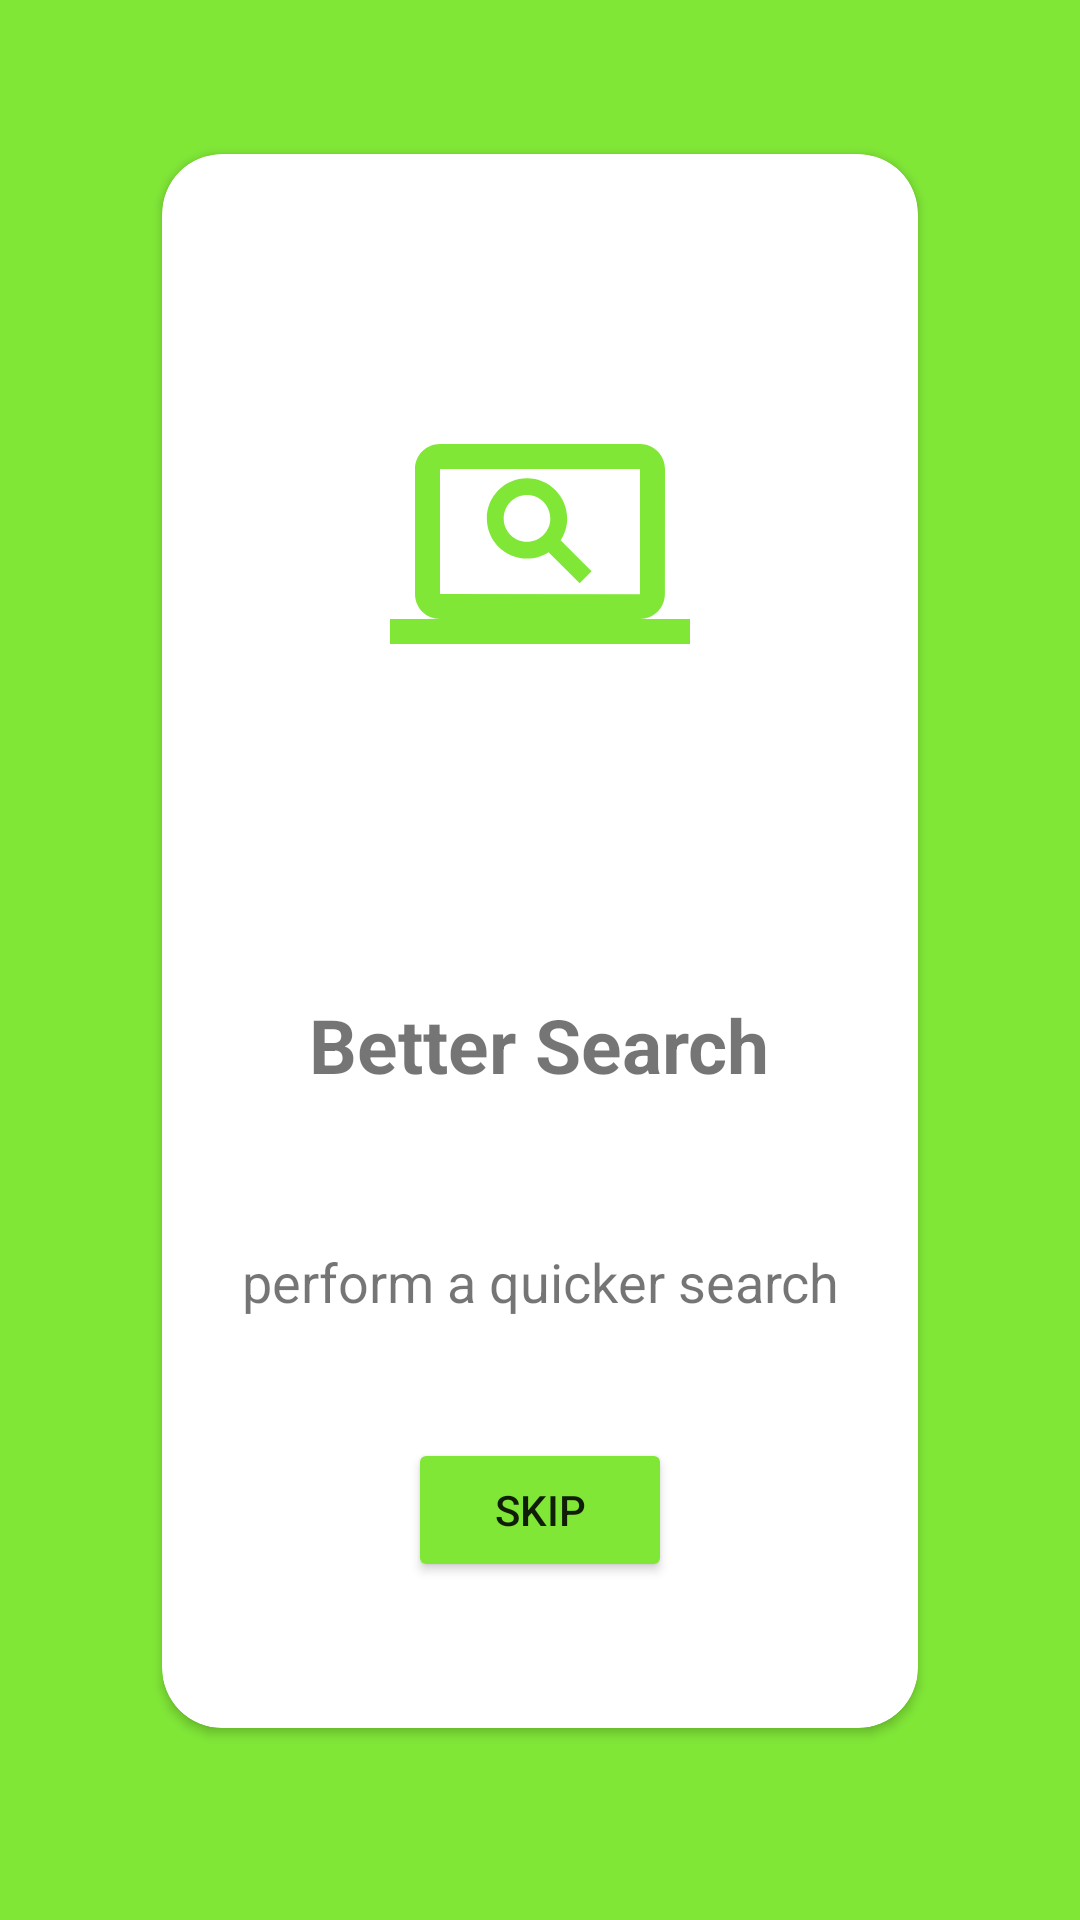

Where to tap for icons on this 1080px x 1920px app screen, as (x,y):
screen search desktop: (540,544)
